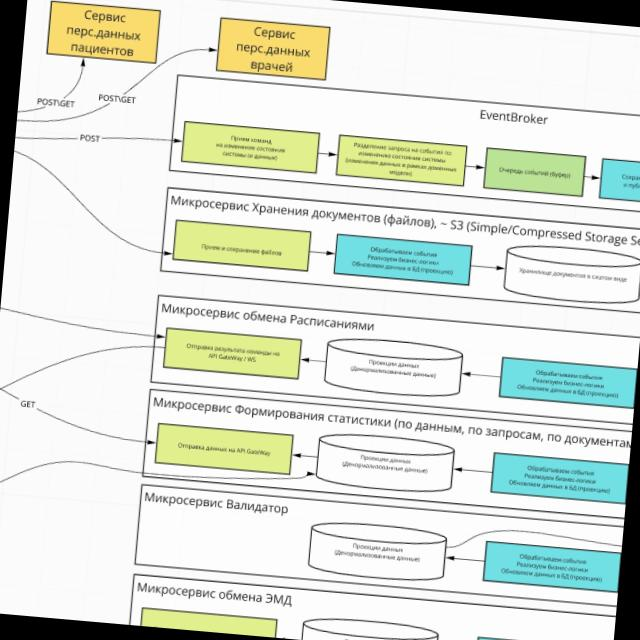arrow: (460, 369, 501, 380), (444, 554, 484, 564), (452, 465, 492, 475), (470, 261, 506, 272), (291, 450, 317, 460), (299, 356, 326, 364), (308, 248, 335, 256), (465, 162, 485, 172), (318, 149, 338, 158), (584, 172, 600, 181)
rectangle: (322, 342, 462, 401), (306, 526, 447, 584), (314, 437, 454, 495), (502, 249, 640, 307), (173, 220, 311, 271), (182, 121, 320, 172), (47, 1, 160, 63), (164, 328, 301, 379), (156, 423, 293, 474), (491, 453, 628, 504), (484, 541, 620, 592), (217, 18, 330, 79), (500, 358, 636, 408), (335, 235, 471, 285), (337, 136, 467, 185), (484, 149, 585, 196)
text_region: (168, 190, 640, 250), (152, 395, 631, 451), (160, 300, 375, 332), (134, 580, 292, 608), (142, 490, 288, 518), (478, 108, 549, 126), (36, 94, 74, 110), (97, 92, 136, 105), (78, 131, 101, 143), (19, 398, 36, 409)
